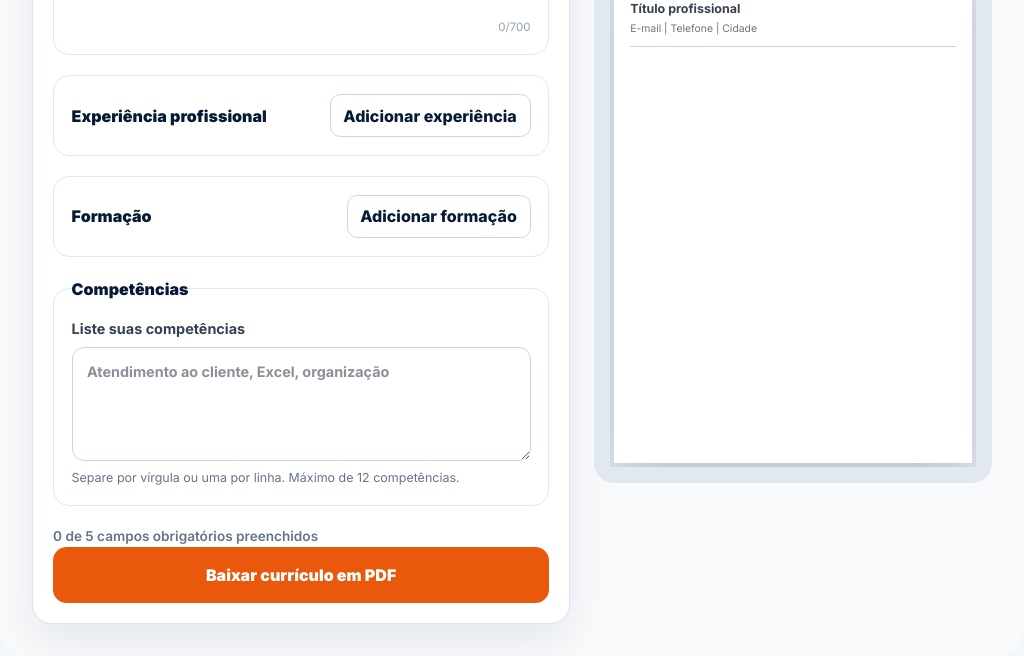
ResumeBuilderTool › shows validation errors before generating
(page scrolled)
Click the button "Baixar currículo em PDF" at {"x": 301, "y": 575}, box [53,547,549,603]
(page scrolled)
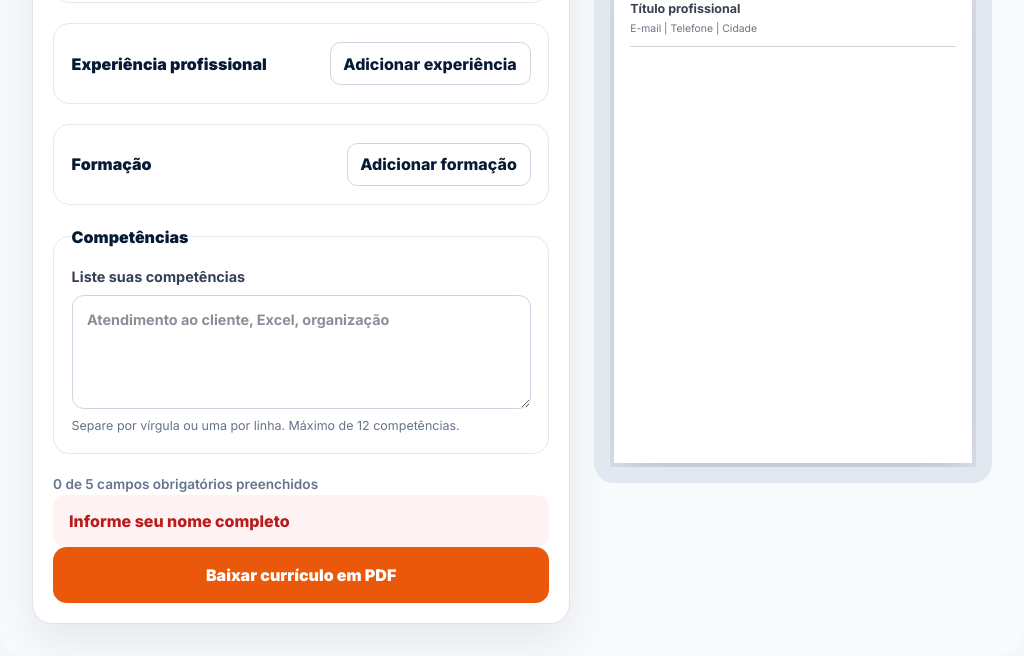
expect the message reads "Informe seu nome completo": met, box [69,511,290,531]
